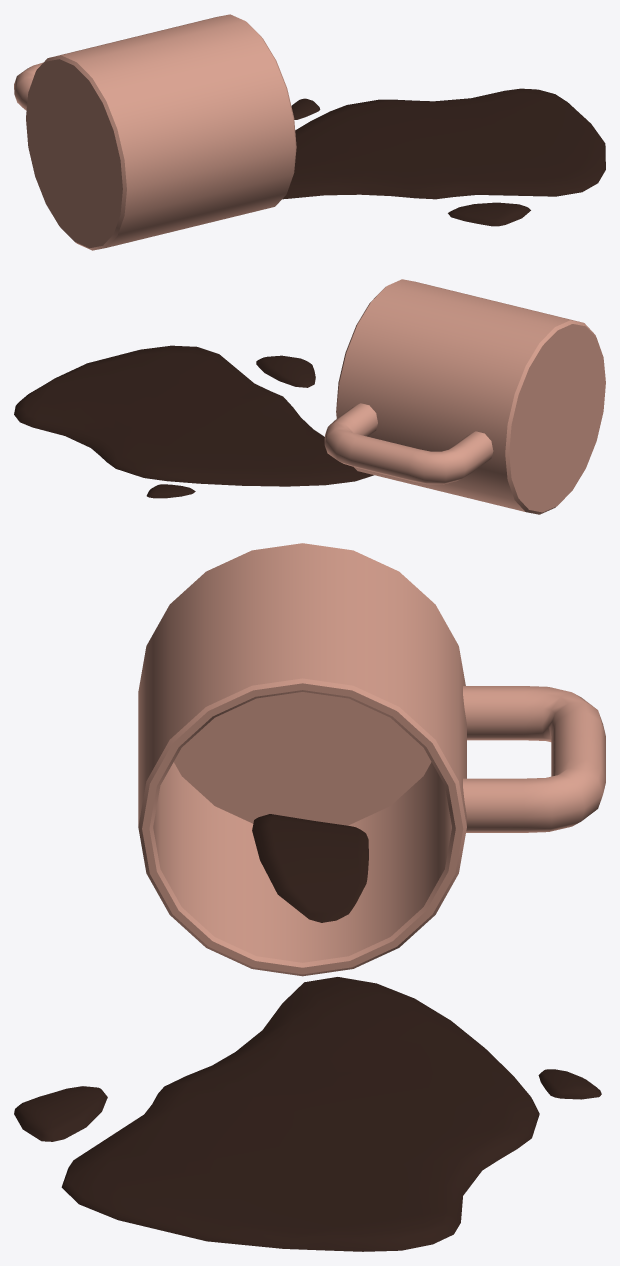
File: SM_Cup_Fallen.fbx
The picture shows the model from 3 angles, top to bottom: view 1: azimuth 30°, elevation 25°; view 2: azimuth 150°, elevation 25°; view 3: azimuth 270°, elevation 25°; orthographic projection. The views are drawn at different scales.
Parts seen in each view (by area): view 1: SM_Cup_Fallen; view 2: SM_Cup_Fallen; view 3: SM_Cup_Fallen.
Part boxes in pixels (box(x1,y1,x2,y2)): SM_Cup_Fallen: box(14, 14, 605, 250); SM_Cup_Fallen: box(14, 279, 605, 514); SM_Cup_Fallen: box(14, 543, 605, 1251).
Bounding box in the file's own units: 50.66 × 17.07 × 30.71.
